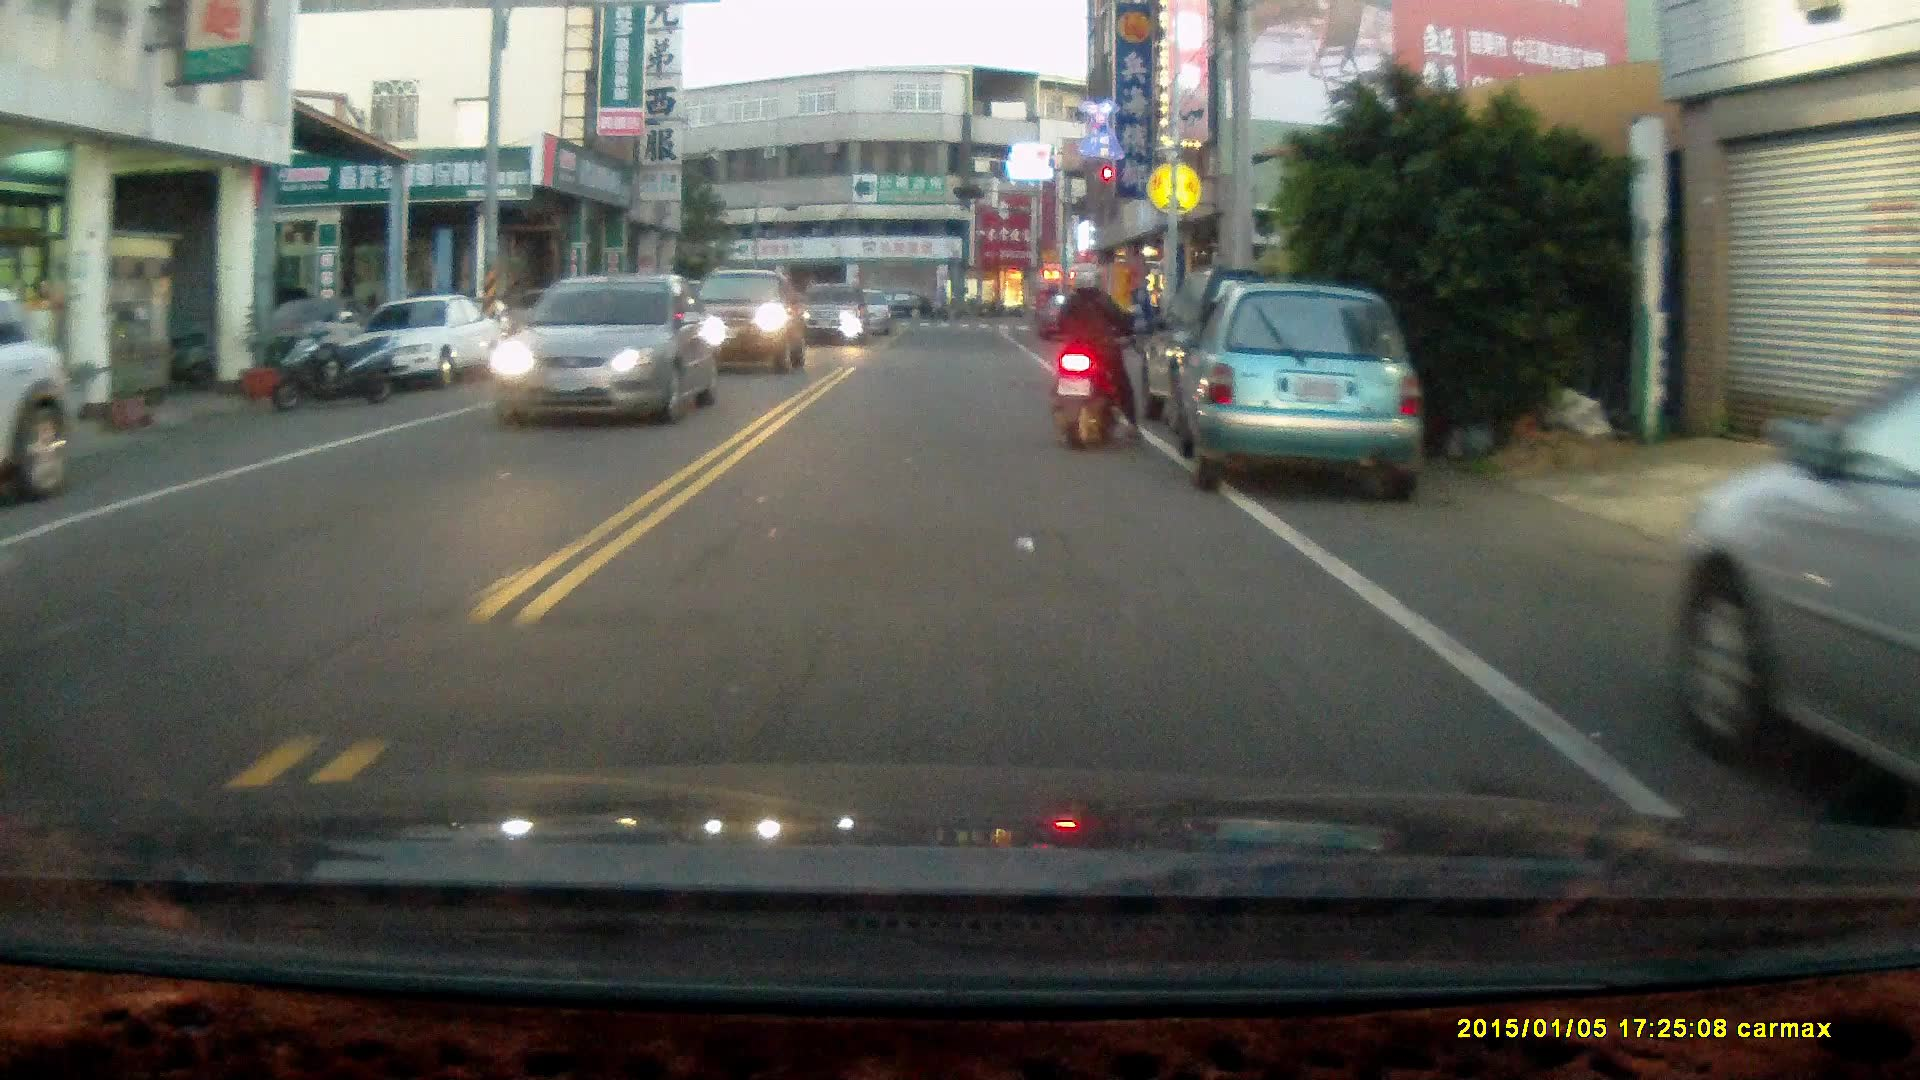rider: (1046, 264, 1143, 451)
vehicle: (1669, 349, 1920, 799), (1174, 282, 1431, 502), (493, 278, 721, 431), (342, 296, 516, 390), (681, 271, 816, 379)
